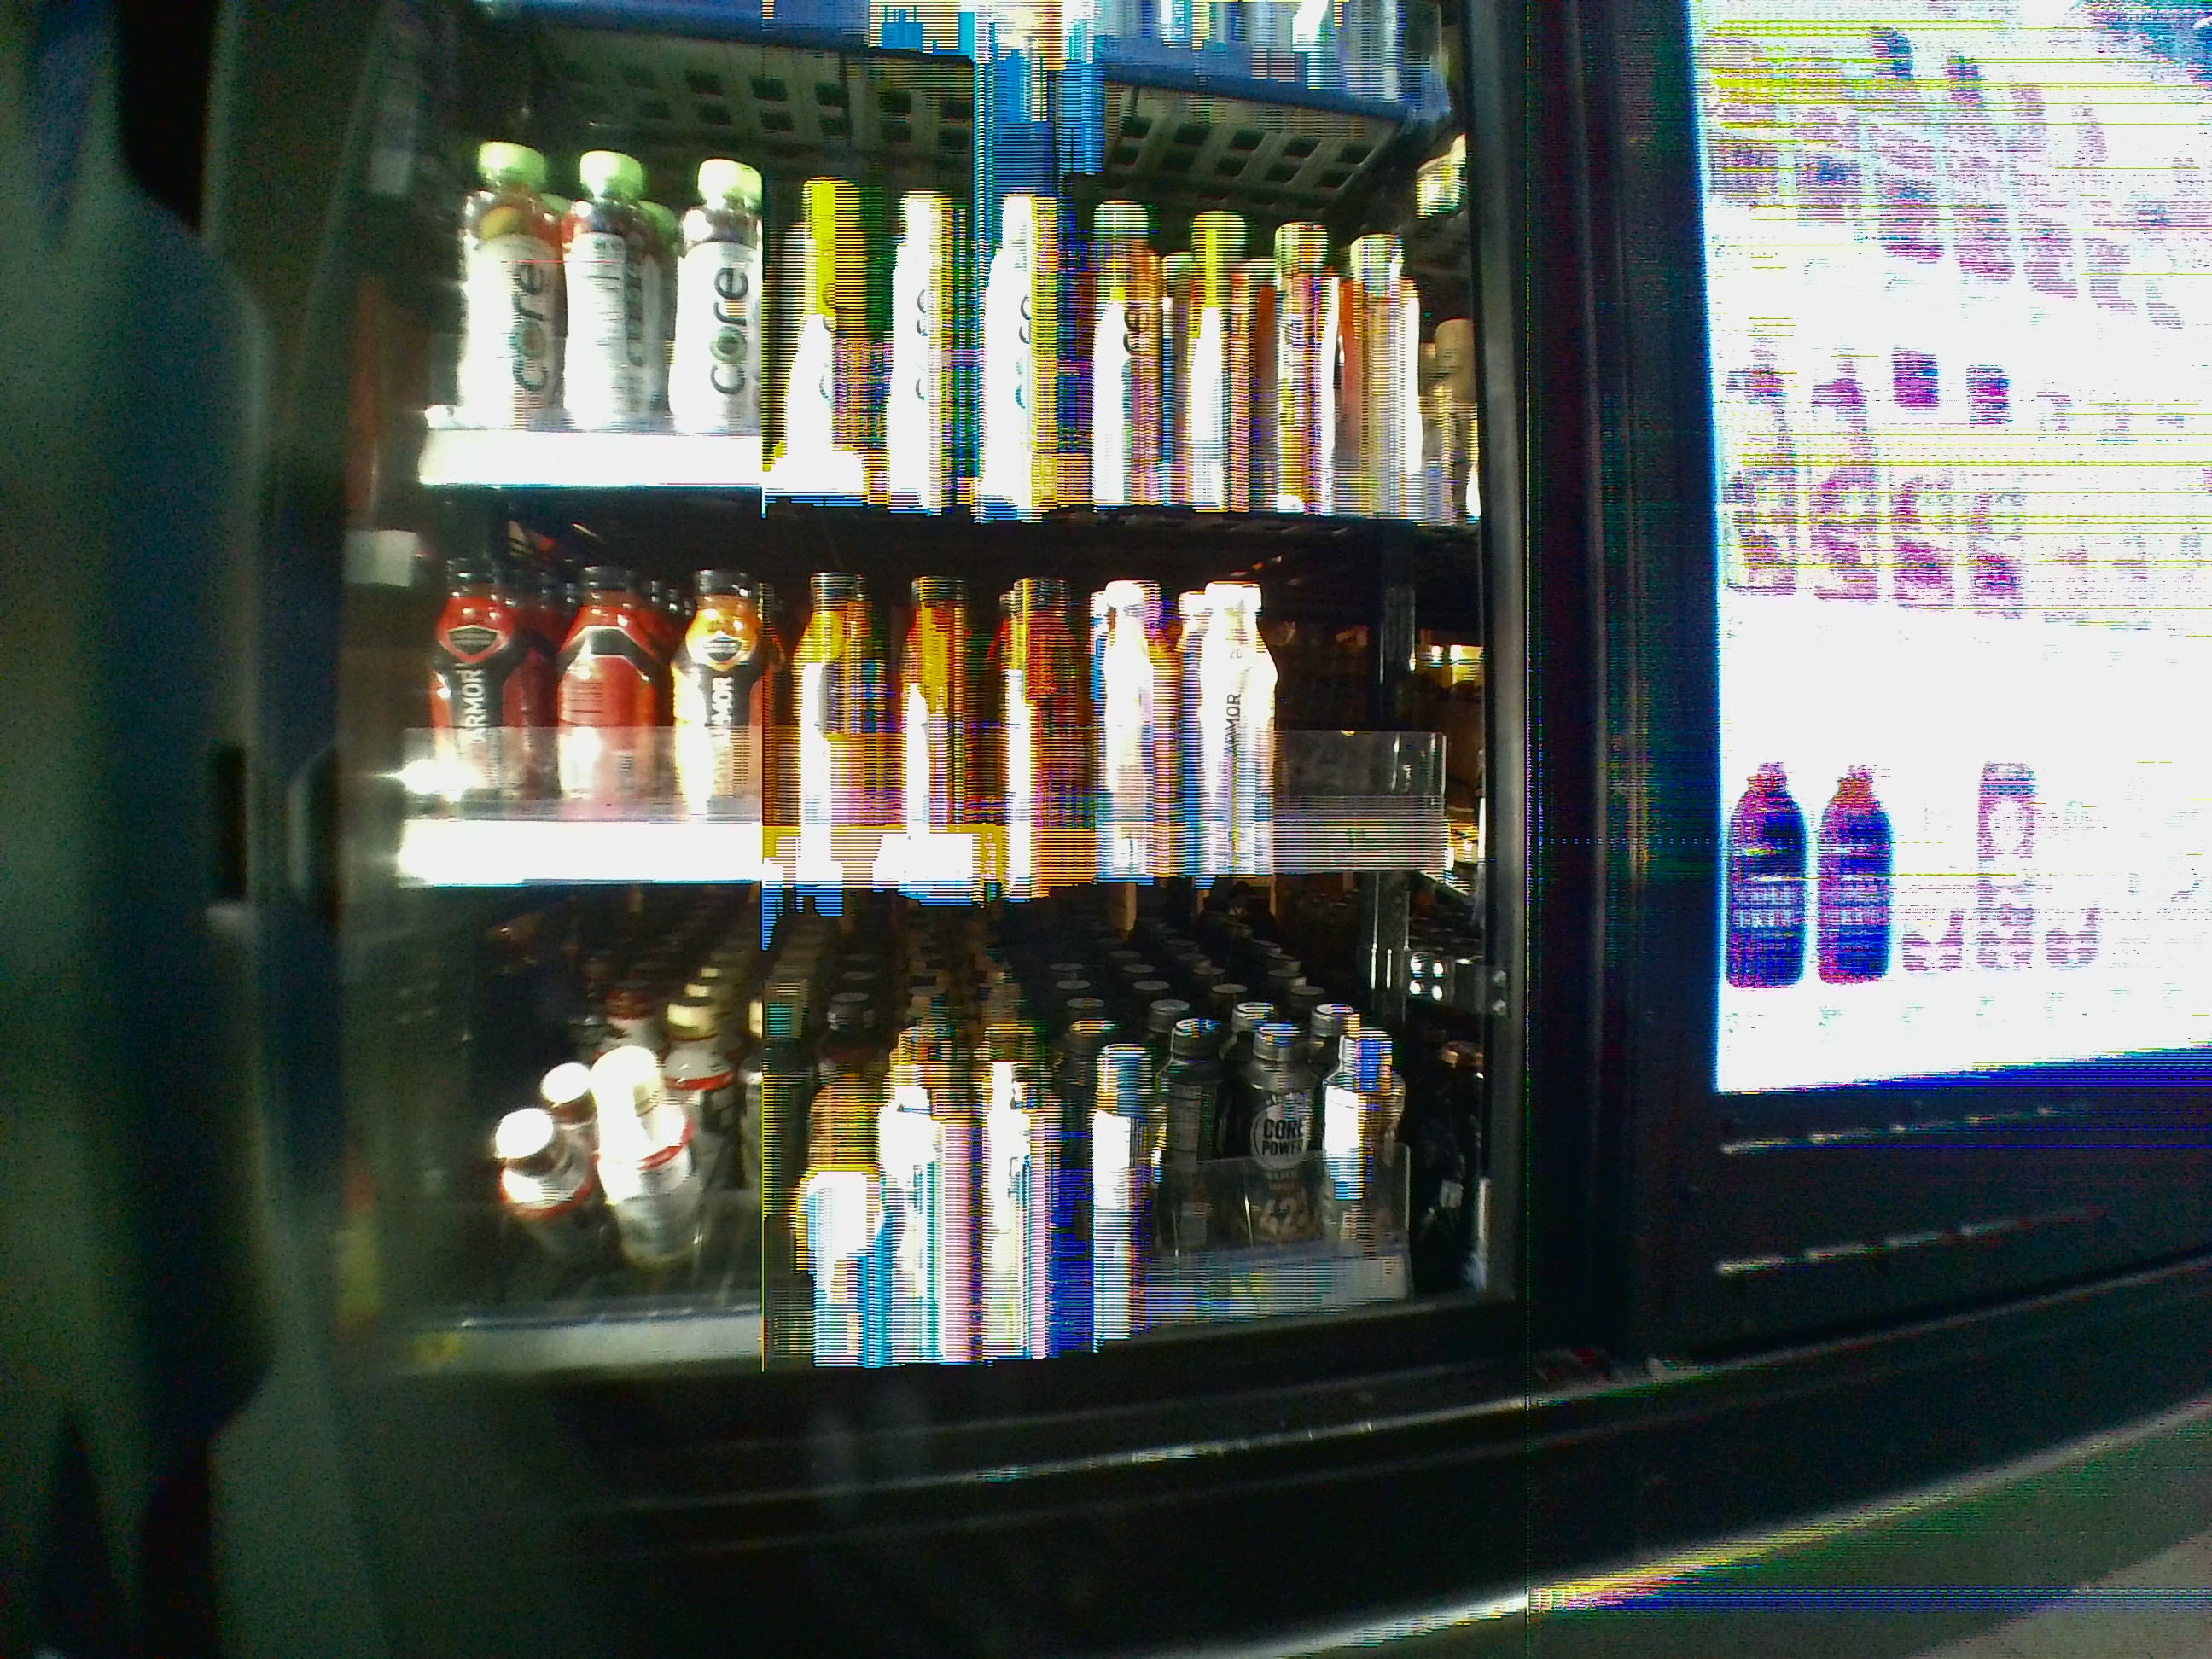shelf: (347, 882, 1500, 1330), (368, 483, 1498, 882)
